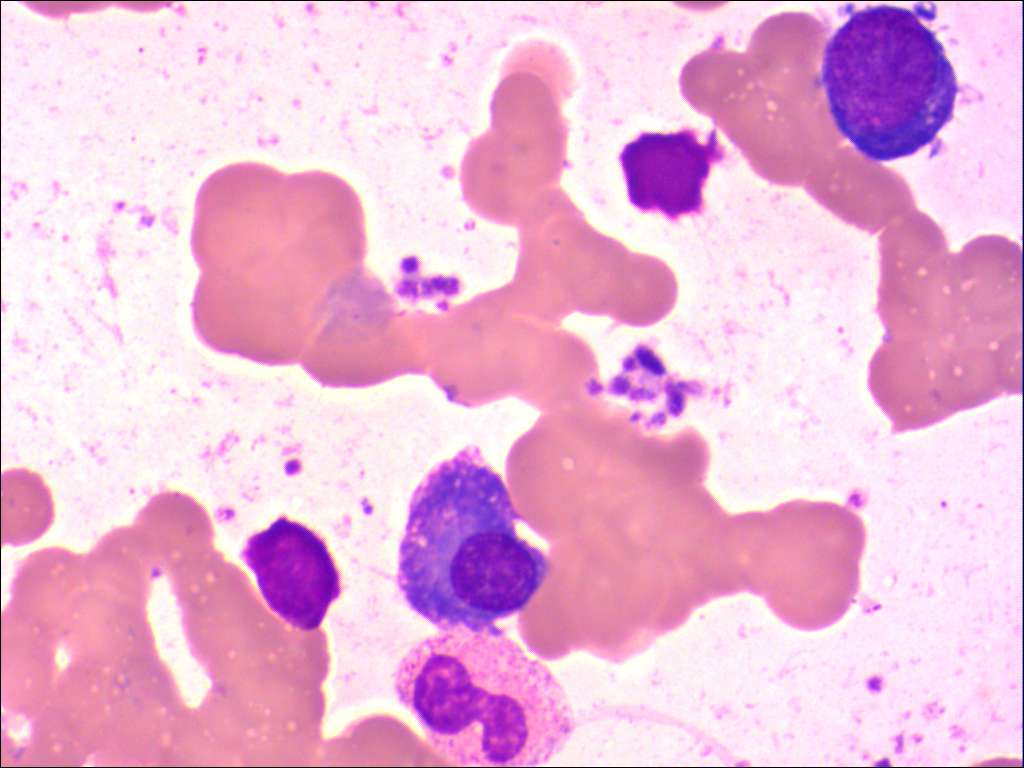22: (819, 1, 963, 166)
5: (391, 626, 581, 768)
52: (393, 441, 556, 632)
x: (234, 511, 347, 635), (615, 126, 731, 226)
